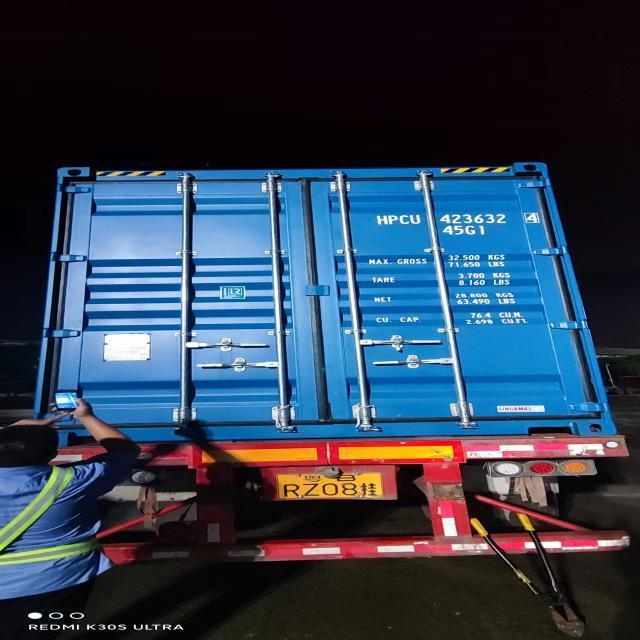ISO: (438, 222, 496, 239)
container_number: (369, 208, 547, 226)
